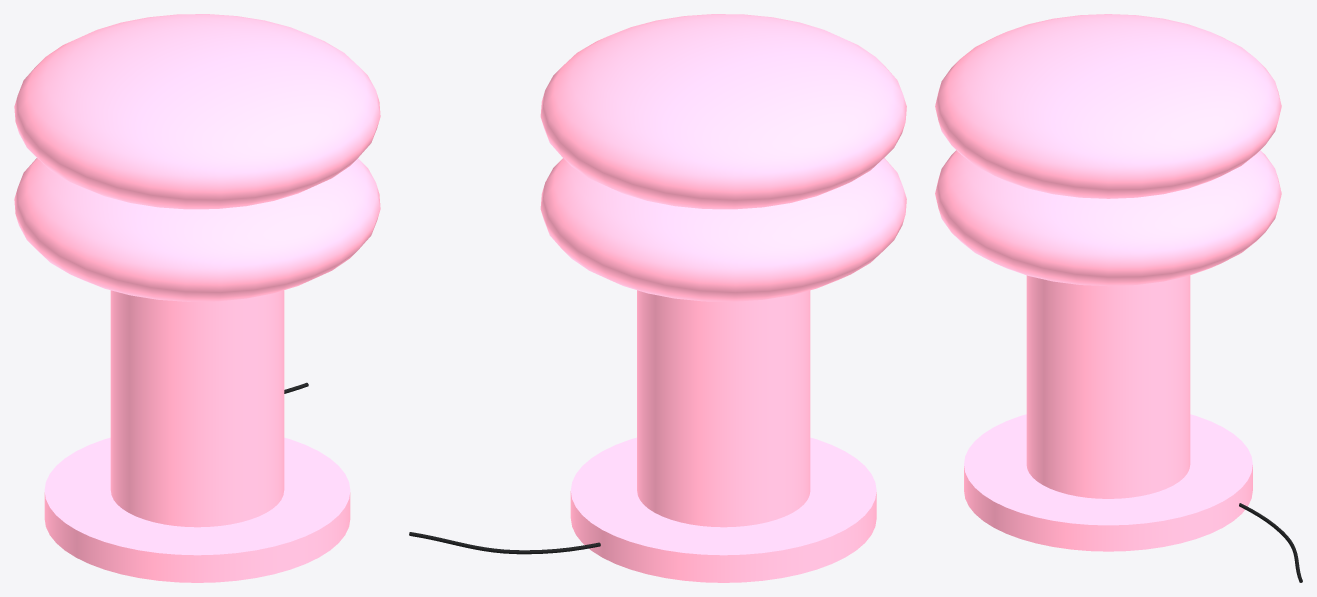
File: ref08_12.glb
3 renders of one model, left to right at view 1: azimuth 30°, elevation 25°; view 2: azimuth 150°, elevation 25°; view 3: azimuth 270°, elevation 25°, orthographic. The views are drawn at different scales.
Visible parts, largest first — view 1: ref08_12; view 2: ref08_12; view 3: ref08_12.
Boxes of the visible parts, x1,y1,x2,y2 form: ref08_12: (14,14,380,582); ref08_12: (409,14,906,582); ref08_12: (935,14,1302,582).
Bounding box in the file's own units: 0.4203 × 0.505 × 0.382.
